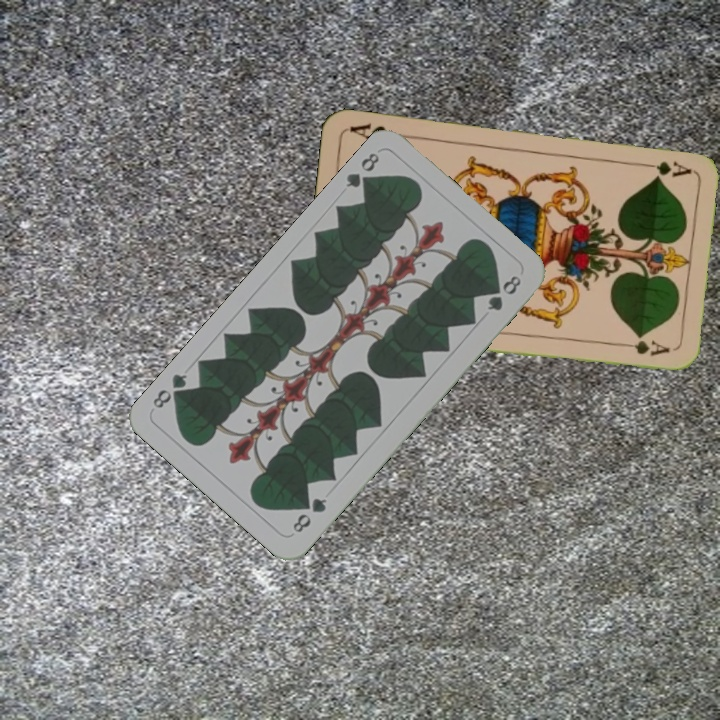G8: (341, 148, 382, 194), (288, 493, 330, 536)
GA: (634, 157, 694, 179)
